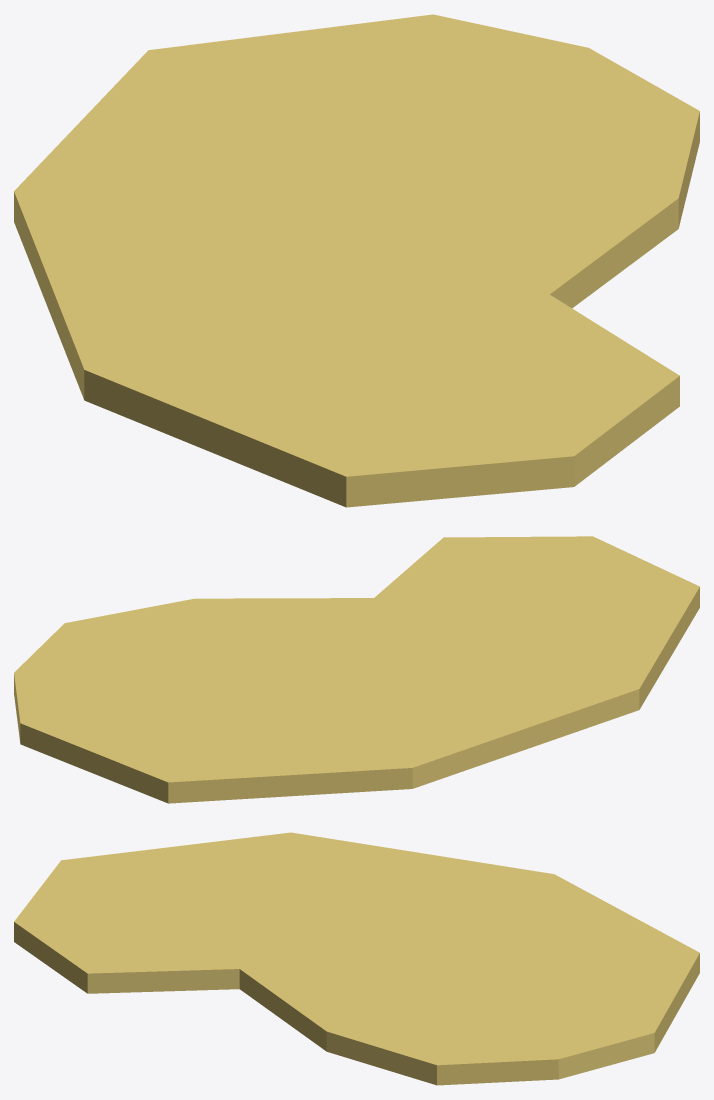
The model's file is seperate tile.fbx.
3 views of the same model, one above another, from view 1: azimuth 30°, elevation 25°; view 2: azimuth 150°, elevation 25°; view 3: azimuth 270°, elevation 25° (orthographic). The views are drawn at different scales.
Visible parts, largest first — view 1: tiles; view 2: tiles; view 3: tiles.
Boxes of the visible parts, x1,y1,x2,y2 form: tiles: (14,14,699,507); tiles: (14,536,699,803); tiles: (14,832,699,1085).
Bounding box in the file's own units: 68.97 × 2.79 × 85.88.
